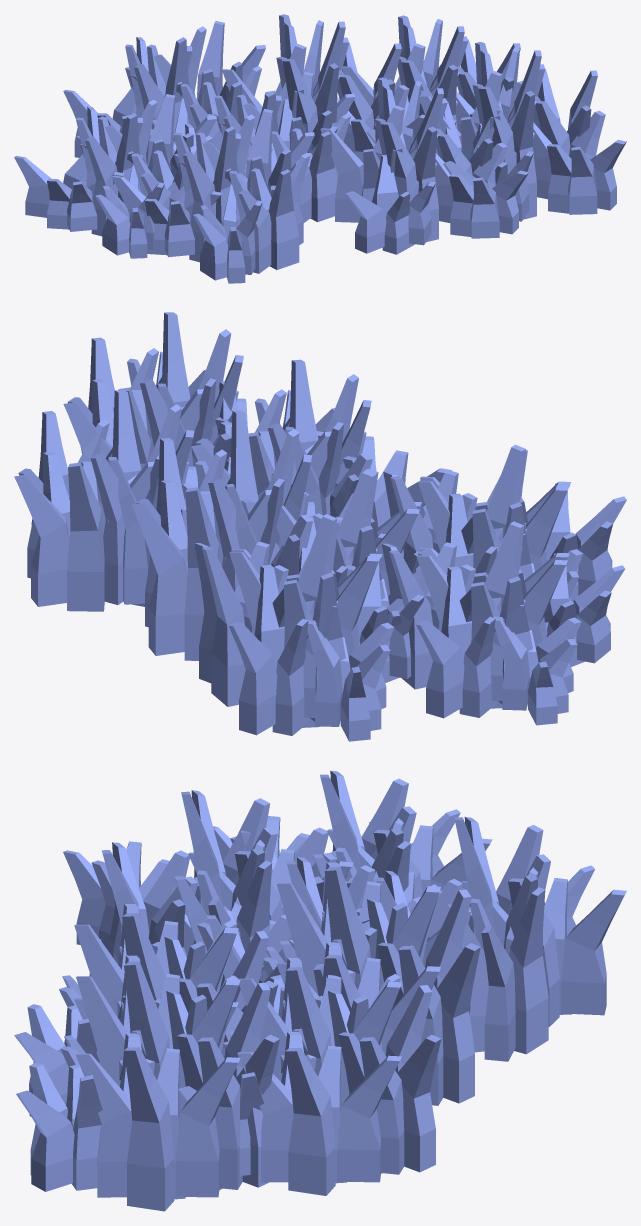
File: grass.fbx
3 renders of one model, top to bottom at view 1: azimuth 30°, elevation 25°; view 2: azimuth 150°, elevation 25°; view 3: azimuth 270°, elevation 25°, orthographic. The views are drawn at different scales.
Parts seen in each view (by area): view 1: Cube.031; view 2: Cube.031; view 3: Cube.031.
Boxes of the visible parts, bbox=[...] form: Cube.031: bbox=[14, 14, 626, 283]; Cube.031: bbox=[14, 312, 626, 741]; Cube.031: bbox=[14, 770, 626, 1211].
Bounding box in the file's own units: 17.93 × 22.15 × 7.67.
